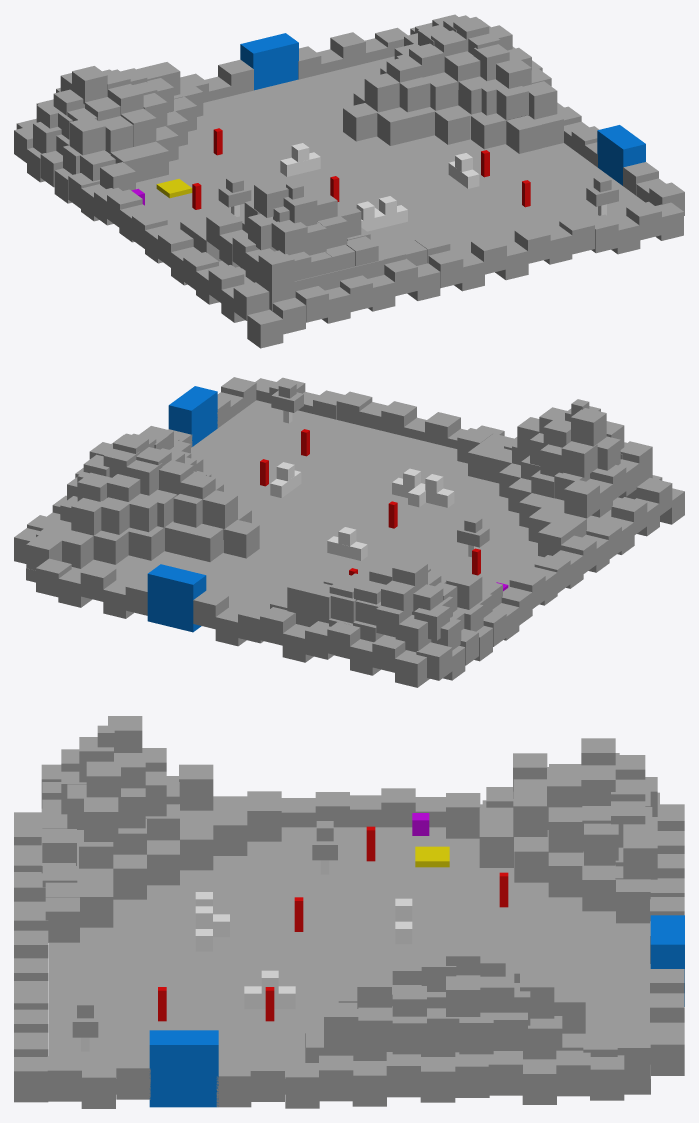
Rendered from Blockout1_V2.fbx.
3 views of the same model, one above another, from view 1: azimuth 30°, elevation 25°; view 2: azimuth 150°, elevation 25°; view 3: azimuth 270°, elevation 25° (orthographic). The views are drawn at different scales.
Parts seen in each view (by area): view 1: pCube1, pCube173, pCube172, pCube168, pCube29, pCube33, pCube80, pCube83, pCube76, pCube189, pCube84, pCube45 (+84 smaller); view 2: pCube1, pCube173, pCube172, pCube85, pCube84, pCube14, pCube54, pCube189, pCube53, pCube89, pCube88, pCube91 (+89 smaller); view 3: pCube1, pCube172, pCube173, pCube101, pCube14, pCube174, pCube98, pCube95, pCube148, pCube104, pCube150, pCube12 (+89 smaller).
Part boxes in pixels (x1,y1,x2,y2): pCube1: [104, 56, 644, 284]; pCube173: [240, 33, 298, 90]; pCube172: [597, 125, 645, 185]; pCube168: [69, 116, 105, 155]; pCube29: [247, 309, 283, 348]; pCube33: [258, 250, 294, 288]; pCube80: [435, 106, 470, 144]; pCube83: [377, 107, 412, 145]; pCube76: [506, 115, 541, 153]; pCube189: [364, 73, 399, 111]; pCube84: [343, 103, 378, 141]; pCube45: [271, 220, 307, 255]; pCube1: [26, 400, 621, 658]; pCube173: [147, 564, 206, 632]; pCube172: [168, 386, 217, 446]; pCube85: [187, 523, 223, 561]; pCube84: [223, 520, 259, 558]; pCube14: [564, 479, 599, 518]; pCube54: [571, 408, 606, 446]; pCube189: [202, 490, 237, 528]; pCube53: [561, 441, 597, 477]; pCube89: [93, 530, 128, 564]; pCube88: [128, 526, 164, 560]; pCube91: [58, 530, 93, 568]; pCube1: [48, 827, 650, 1094]; pCube172: [149, 1030, 218, 1107]; pCube173: [650, 915, 684, 1006]; pCube101: [319, 1055, 353, 1101]; pCube14: [179, 764, 213, 810]; pCube174: [324, 1002, 358, 1048]; pCube98: [216, 1061, 251, 1107]; pCube95: [116, 1053, 150, 1099]; pCube148: [623, 833, 657, 879]; pCube104: [420, 1057, 455, 1102]; pCube150: [548, 807, 583, 852]; pCube12: [247, 796, 281, 841].
Size of the model in its own units: 38.59 by 10.17 by 38.99.
